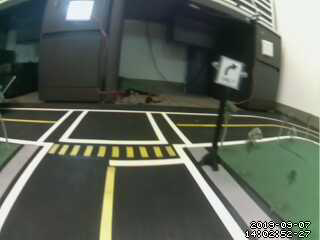Right_only_sign: (216, 52, 246, 97)
